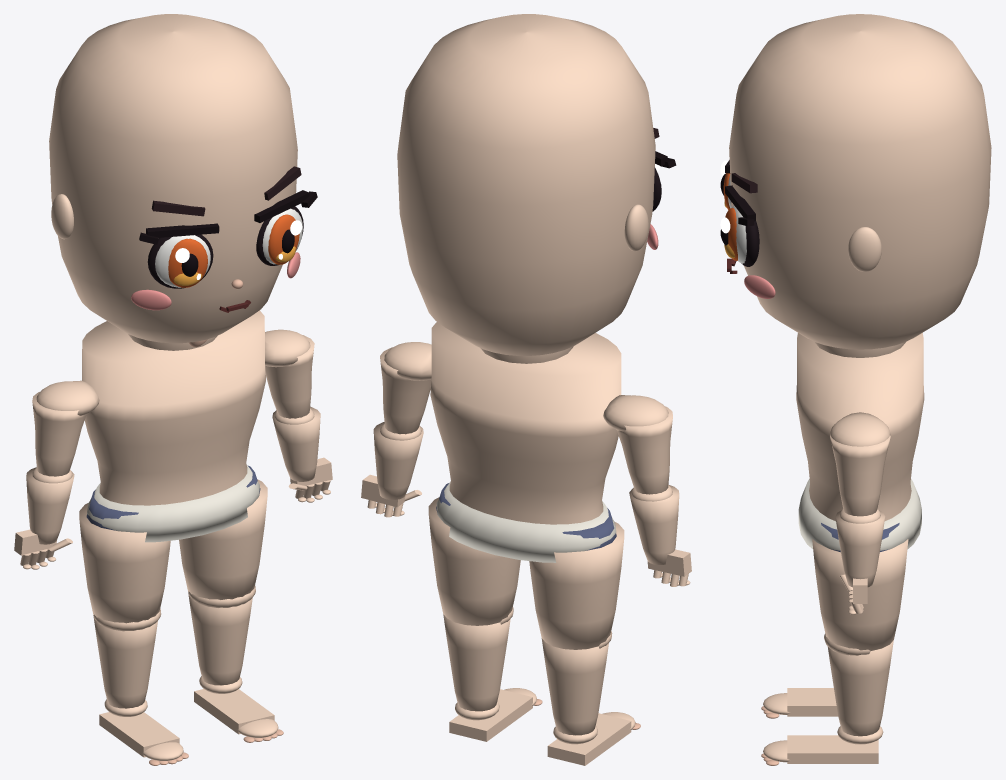
File: body_m.glb
3 renders of one model, left to right at view 1: azimuth 30°, elevation 25°; view 2: azimuth 150°, elevation 25°; view 3: azimuth 270°, elevation 25°, orthographic. The views are drawn at different scales.
Size of the model in its own units: 0.6773 by 1.43 by 0.4989.
